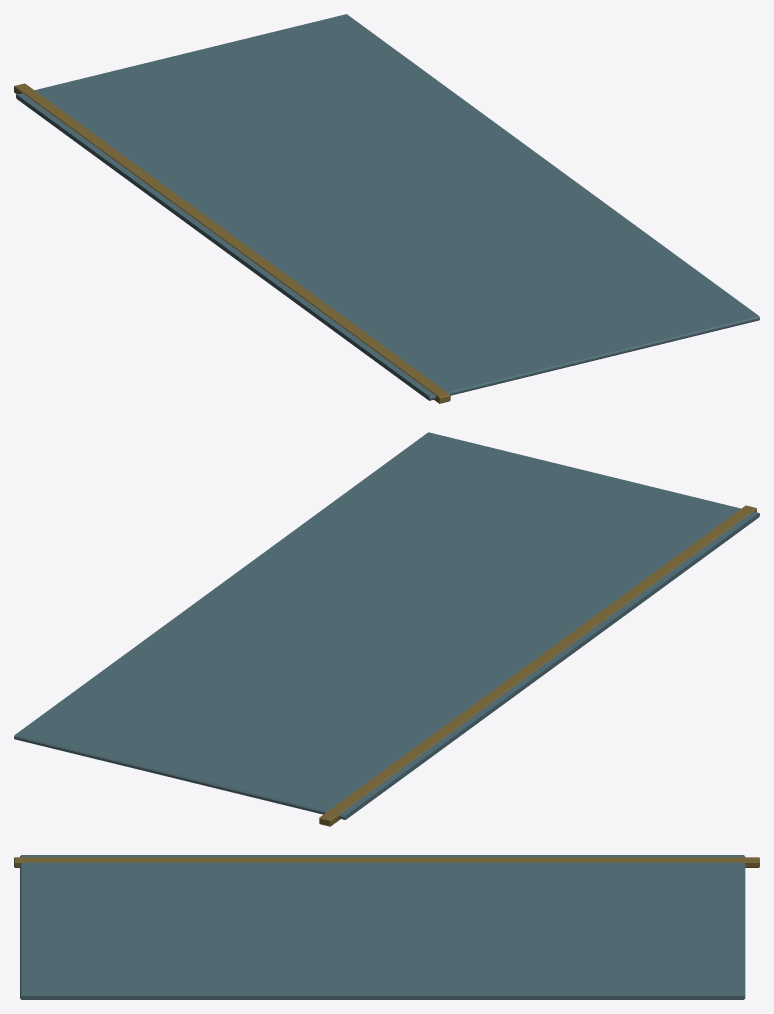
File: SM_SubwayGround1.fbx
3 renders of one model, top to bottom at view 1: azimuth 30°, elevation 25°; view 2: azimuth 150°, elevation 25°; view 3: azimuth 270°, elevation 25°, orthographic. The views are drawn at different scales.
Parts seen in each view (by area): view 1: pCube507; view 2: pCube507; view 3: pCube507.
Boxes of the visible parts, x1,y1,x2,y2 form: pCube507: (14, 14, 759, 403); pCube507: (14, 432, 759, 826); pCube507: (14, 855, 759, 999).
Bounding box in the file's own units: 2178 × 44.58 × 4868.
